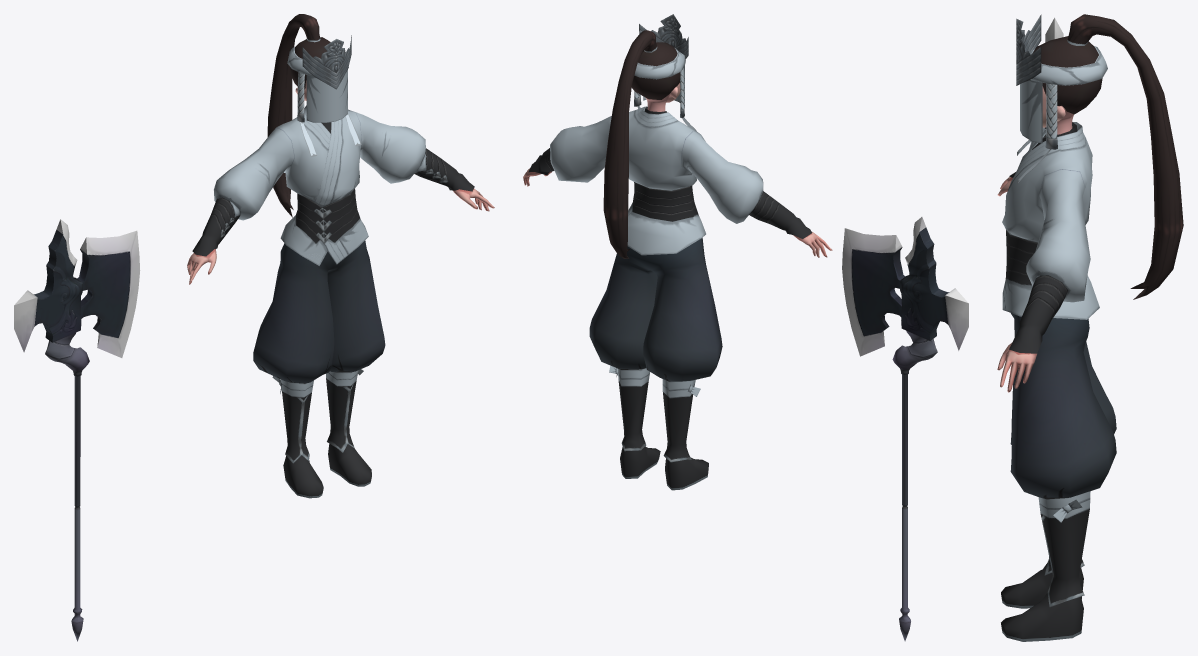
Rendered from m_007_axe_soldier_1_view.fbx.
3 views of the same model, side by side, from view 1: azimuth 30°, elevation 25°; view 2: azimuth 150°, elevation 25°; view 3: azimuth 270°, elevation 25° (orthographic). The views are drawn at different scales.
Parts seen in each view (by area): view 1: m_007_axe_soldier_1; view 2: m_007_axe_soldier_1; view 3: m_007_axe_soldier_1.
Part boxes in pixels (box(x1,y1,x2,y2)): m_007_axe_soldier_1: box(14, 14, 494, 641); m_007_axe_soldier_1: box(523, 14, 968, 641); m_007_axe_soldier_1: box(997, 14, 1183, 641).
Size of the model in its own units: 248 by 286 by 65.09.
